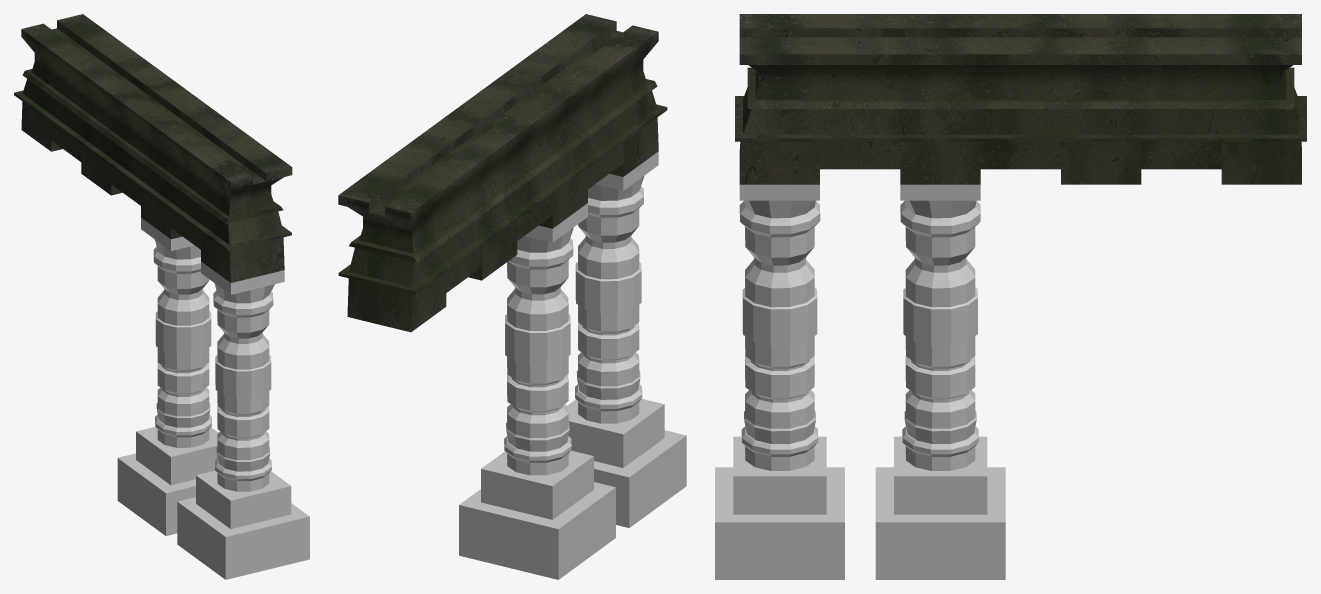
The model's file is ruin02.fbx.
The picture shows the model from 3 angles, left to right: view 1: azimuth 30°, elevation 25°; view 2: azimuth 150°, elevation 25°; view 3: azimuth 270°, elevation 25°; orthographic projection. The views are drawn at different scales.
Visible parts, largest first — view 1: pCube12; view 2: pCube12; view 3: pCube12.
Part boxes in pixels (<box>): pCube12: <box>14,14,309,579</box>; pCube12: <box>338,14,686,579</box>; pCube12: <box>715,14,1306,579</box>.
Bounding box in the file's own units: 116 × 509 × 525.
